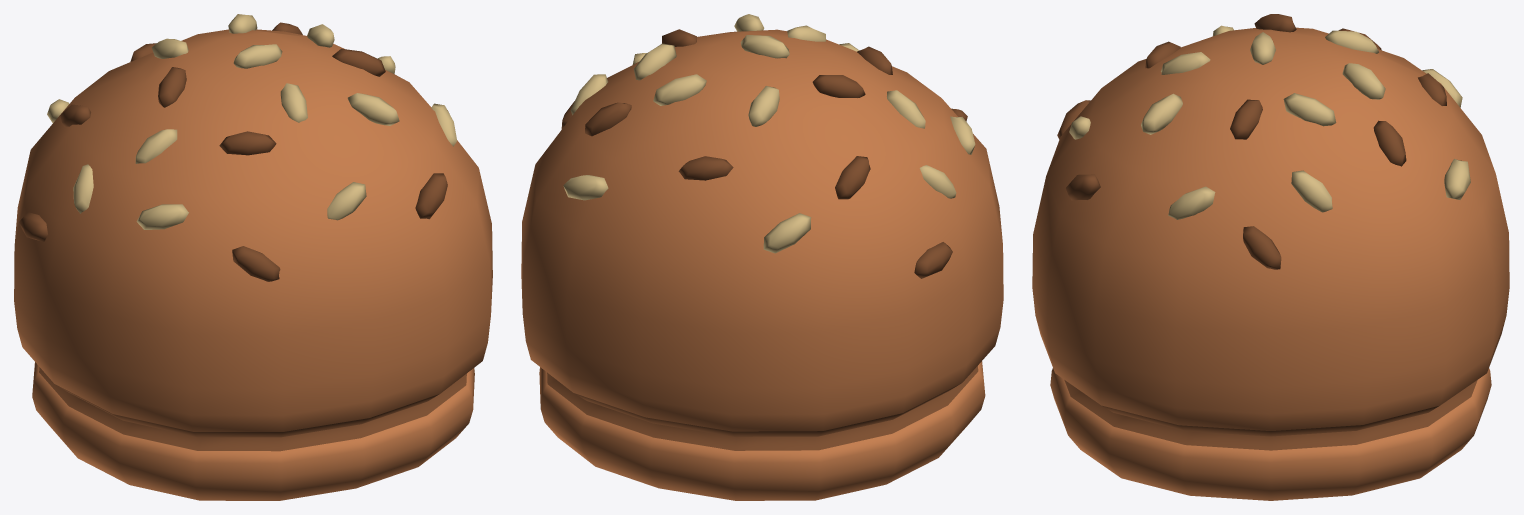
File: Bread_Ing.fbx
3 renders of one model, left to right at view 1: azimuth 30°, elevation 25°; view 2: azimuth 150°, elevation 25°; view 3: azimuth 270°, elevation 25°, orthographic.
Visible parts, largest first — view 1: Bread1; view 2: Bread1; view 3: Bread1.
Boxes of the visible parts, <box> form: Bread1: <box>14,14,492,500</box>; Bread1: <box>521,14,1003,500</box>; Bread1: <box>1032,14,1509,500</box>.
Size of the model in its own units: 62.49 by 58.24 by 62.12.
